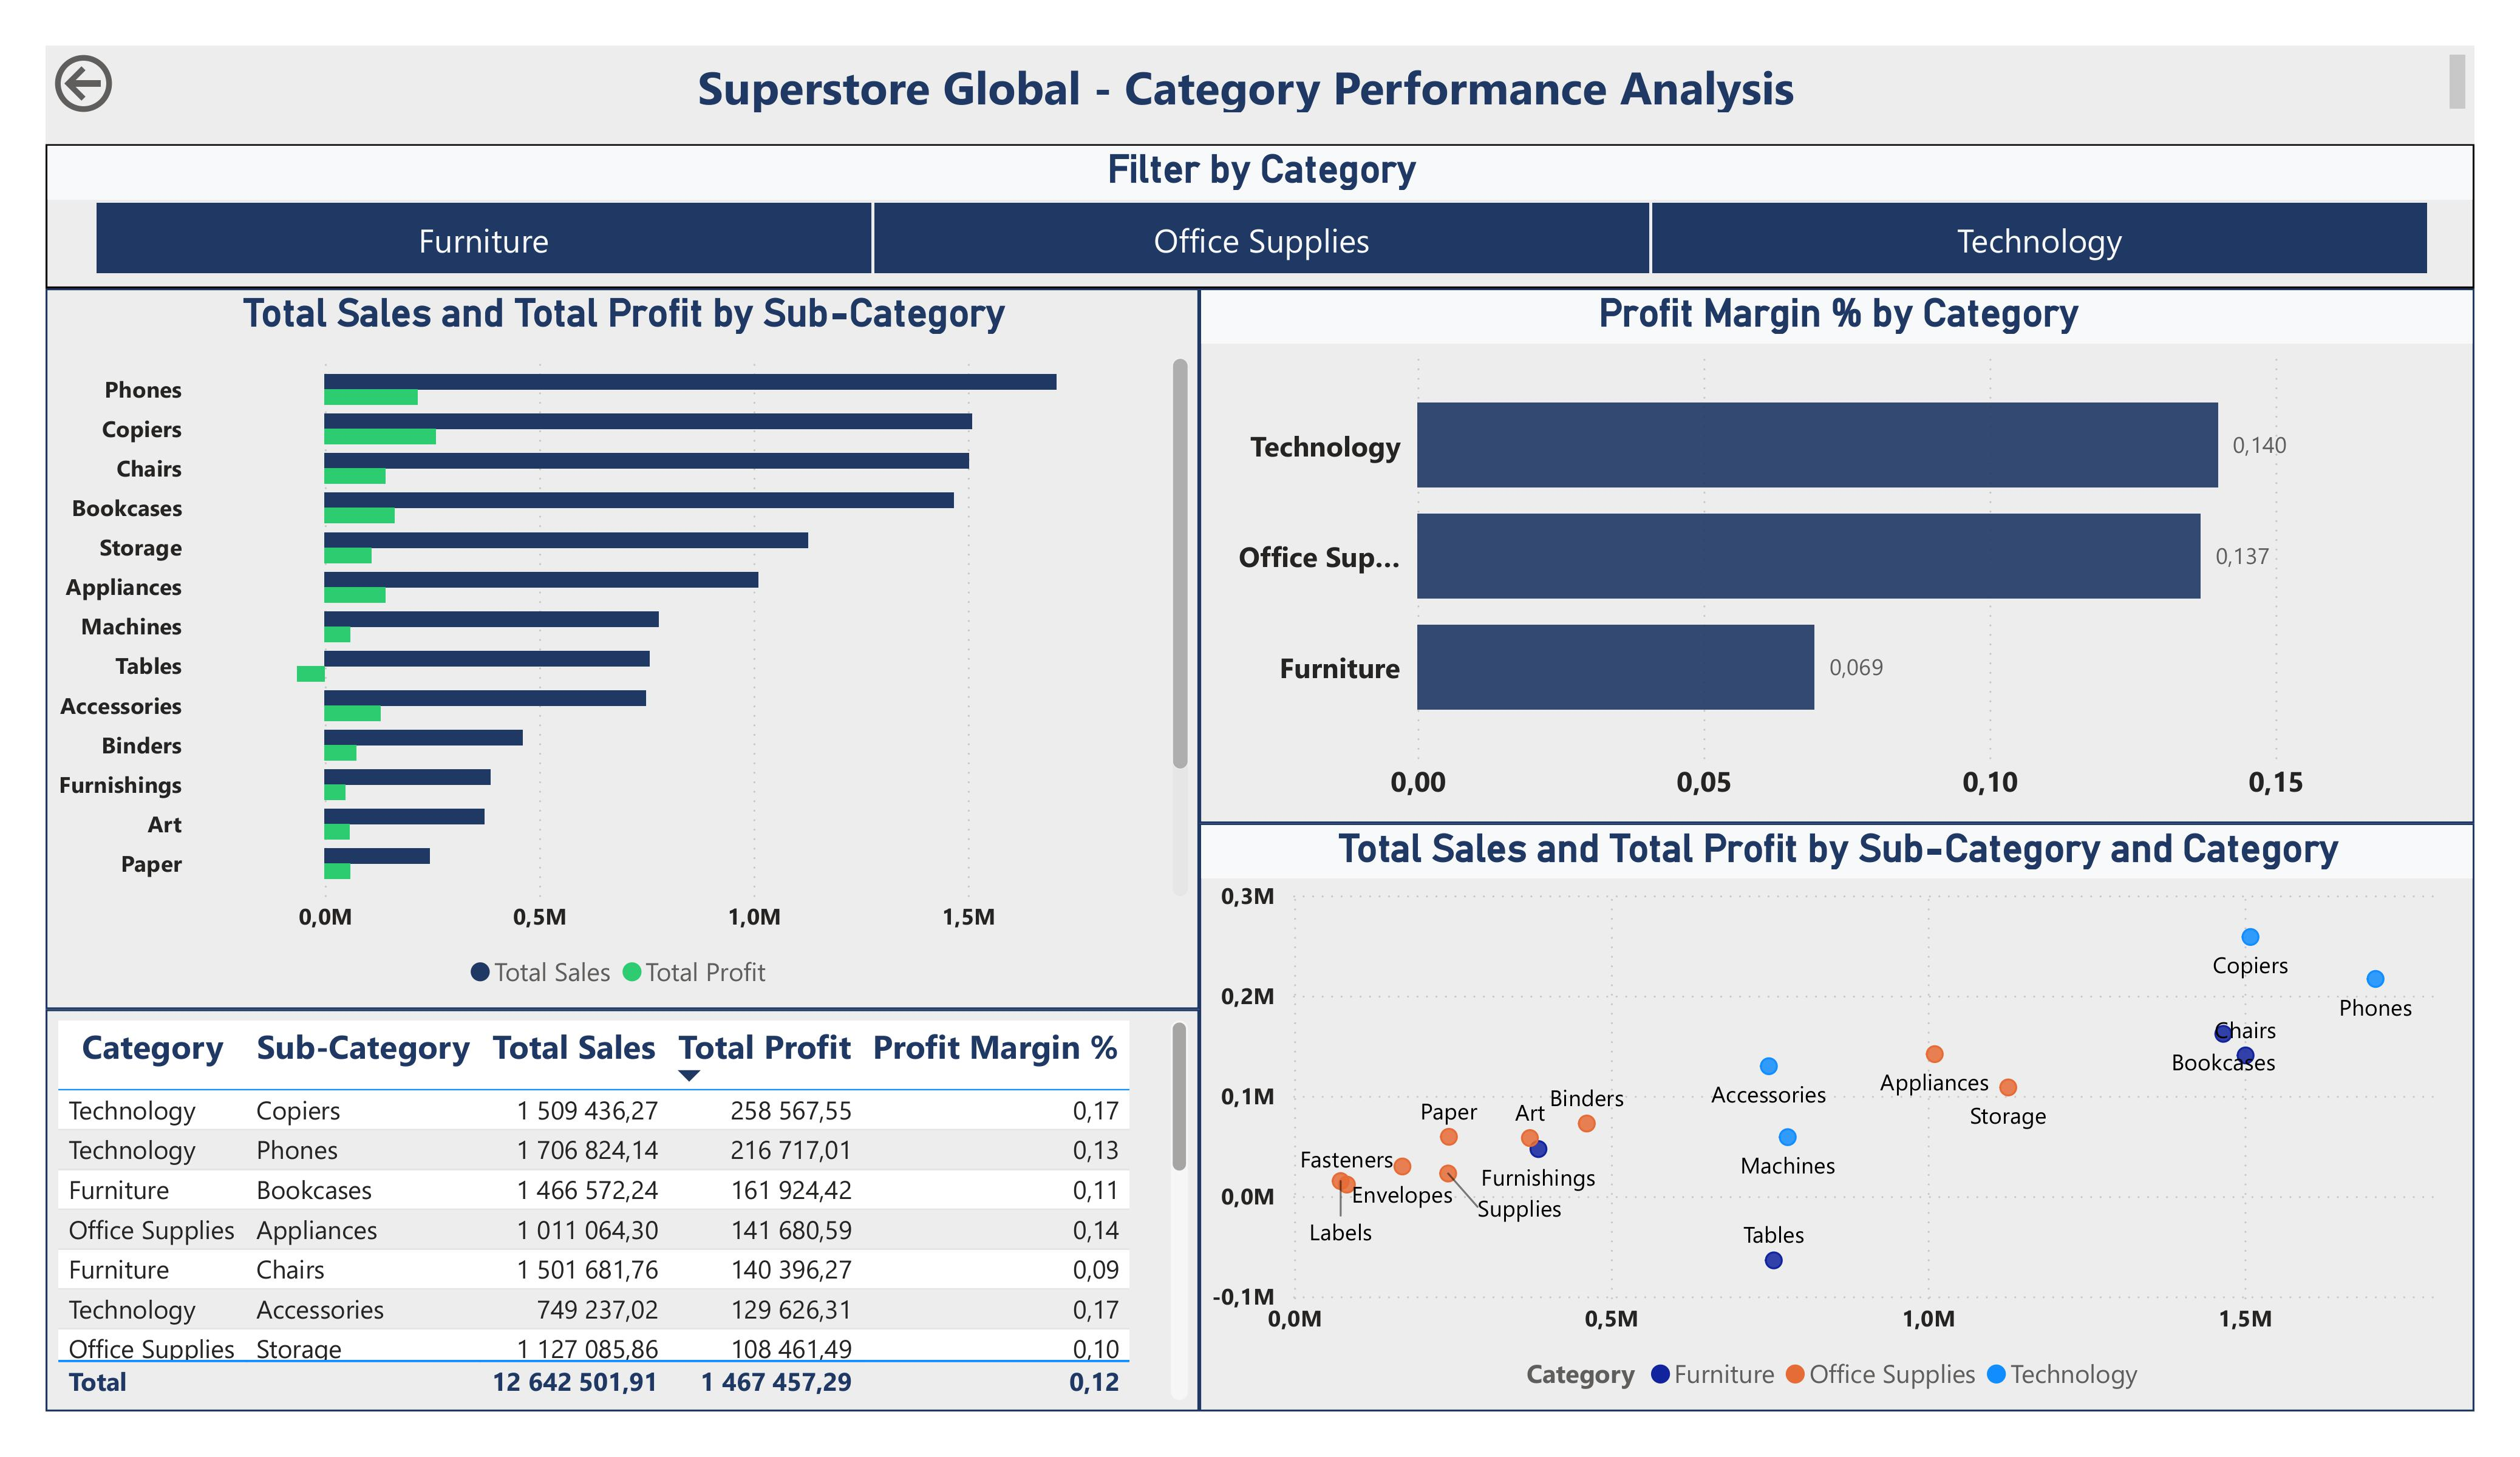

The page's visual inventory and layout, read from the dashboard file:
{"tool":"powerbi","page":{"name":"Category Analysis","canvas":[1280,720],"ordinal":2},"visuals":[{"type":"textbox","box":[0,0,1280,40],"z":0},{"type":"clusteredBarChart","fields":{"Y":["Sheet1.Total Sales","Sheet1.Total Profit"],"Category":["Sheet1.Sub-Category"]},"box":[0,128.3,608.3,380],"z":1000},{"type":"slicer","title":"Filter by Category","fields":{"Values":["Sheet1.Category"]},"box":[0,51.7,1280,76.7],"z":2000},{"type":"clusteredBarChart","fields":{"Y":["Sheet1.Profit Margin %"],"Category":["Sheet1.Category"]},"box":[608.3,128.3,671.7,281.7],"z":3000},{"type":"scatterChart","fields":{"X":["Sheet1.Total Sales"],"Y":["Sheet1.Total Profit"],"Category":["Sheet1.Sub-Category"],"Series":["Sheet1.Category"]},"box":[608.3,410,671.7,310],"z":4000},{"type":"tableEx","fields":{"Values":["Sheet1.Category","Sheet1.Sub-Category","Sheet1.Total Sales","Sheet1.Total Profit","Sheet1.Profit Margin %"]},"box":[0,508,608,212],"z":5000},{"type":"actionButton","box":[0,0,100,40],"z":6000}]}

Visuals, with their boxes on the page's 1280x720 design canvas (x1, y1, x2, y2). These are canvas units, not pixel positions in the 2520x1457 screenshot, which may show the page scaled, cropped or inside an application window:
textbox: Rect(0, 0, 1280, 40)
clusteredBarChart - Sheet1.Total Sales x Sheet1.Total Profit: Rect(0, 128, 608, 508)
"Filter by Category" slicer: Rect(0, 52, 1280, 128)
clusteredBarChart - Sheet1.Profit Margin % x Sheet1.Category: Rect(608, 128, 1280, 410)
scatterChart - Sheet1.Total Sales x Sheet1.Total Profit: Rect(608, 410, 1280, 720)
tableEx - Sheet1.Category x Sheet1.Sub-Category: Rect(0, 508, 608, 720)
actionButton: Rect(0, 0, 100, 40)
